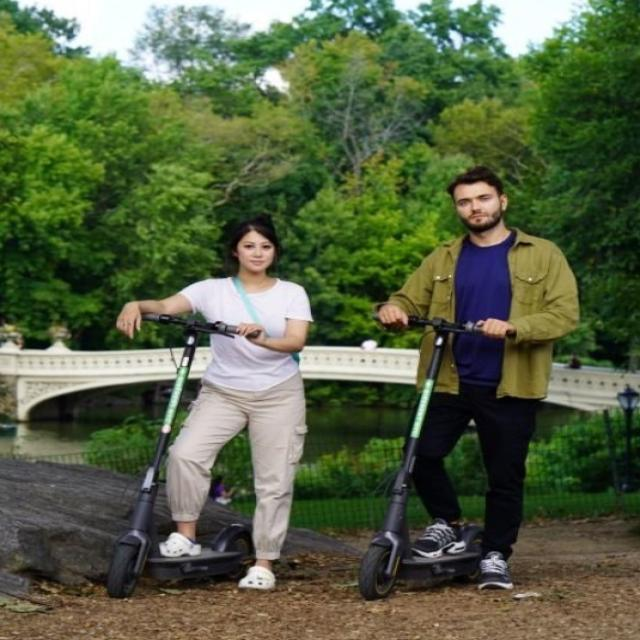non-helmet: (339, 134, 578, 611), (78, 196, 311, 604)
